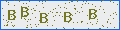B: (7, 9, 16, 20), (89, 9, 97, 19), (64, 12, 72, 22), (40, 13, 48, 23), (21, 7, 29, 17)
